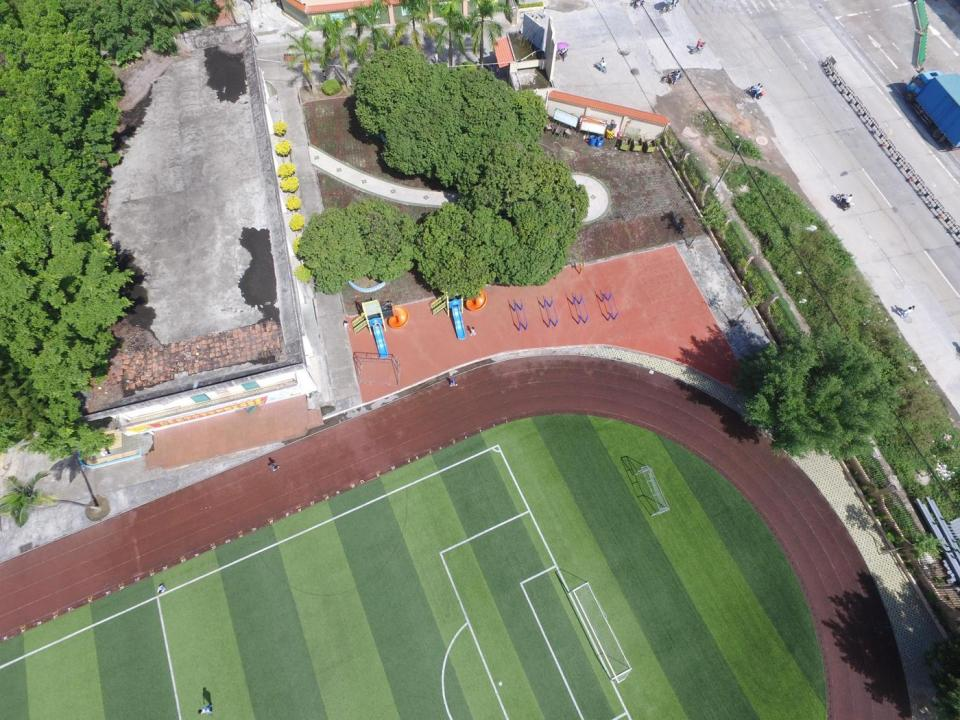truck: (906, 69, 960, 152)
